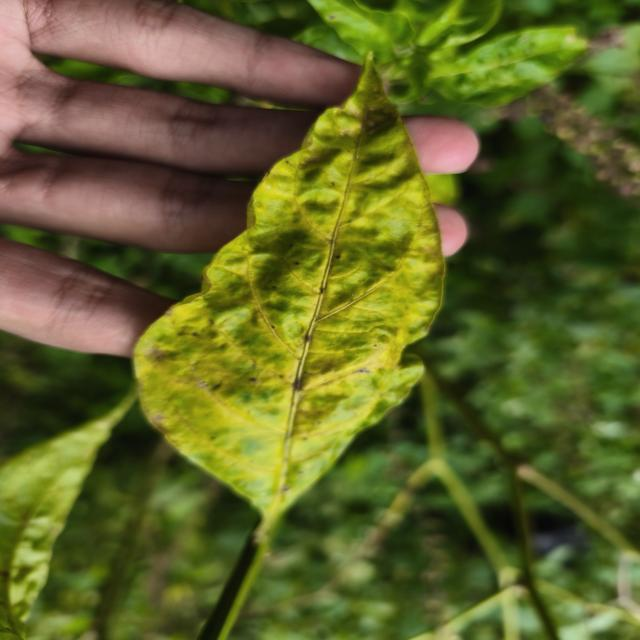Virus Kuning: (130, 54, 447, 552)
